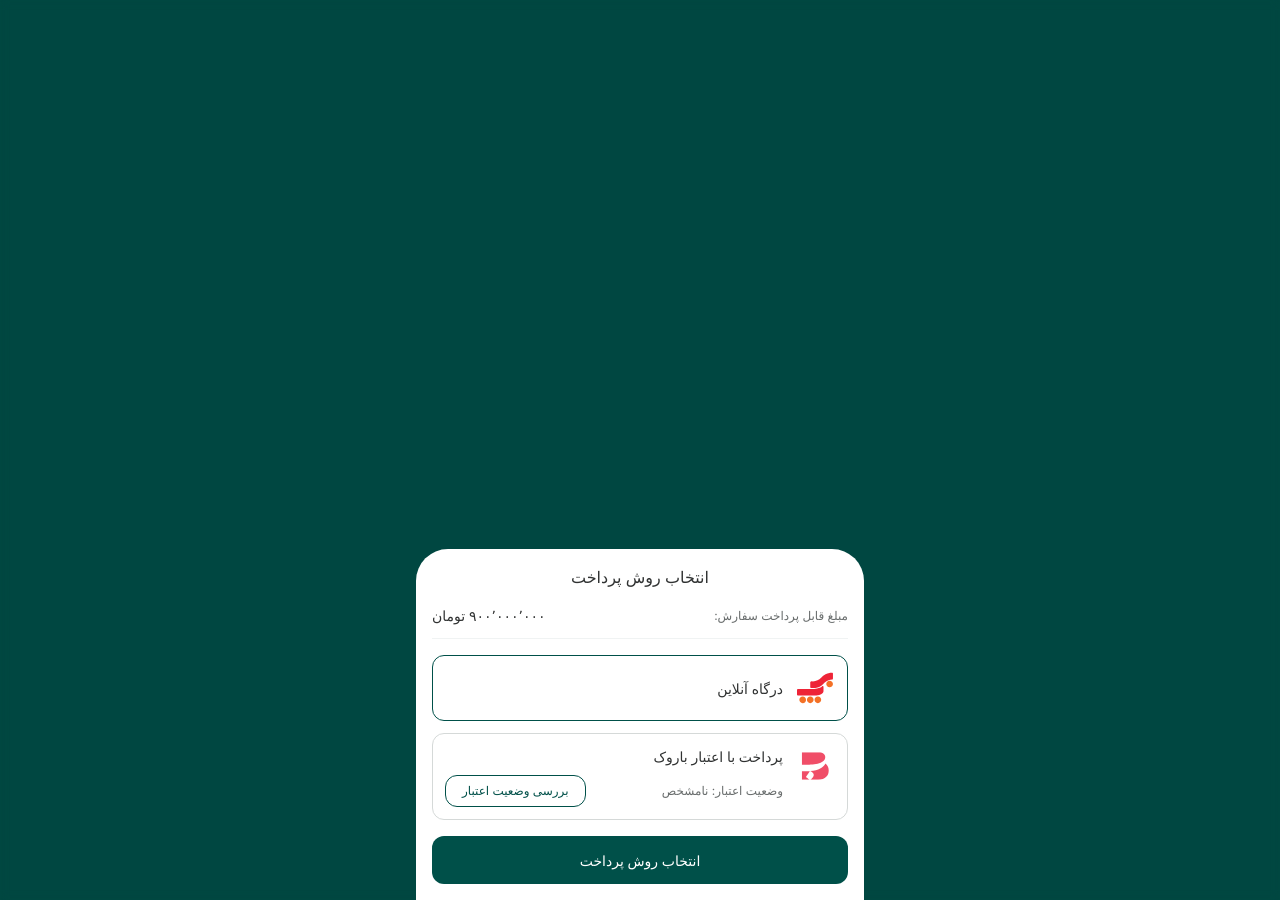
AddPaymentMethodSheet › renders unknown for 5024 and retries via discover
The width and height of the screenshot is (1280, 900).
Expected: the text "وضعیت اعتبار: نامشخص" is shown, [662, 782, 783, 800]
Expected: the text "غیرفعال" is not shown
Step 1. Click the button "بررسی وضعیت اعتبار" → point(515, 791), box [445, 775, 586, 807]
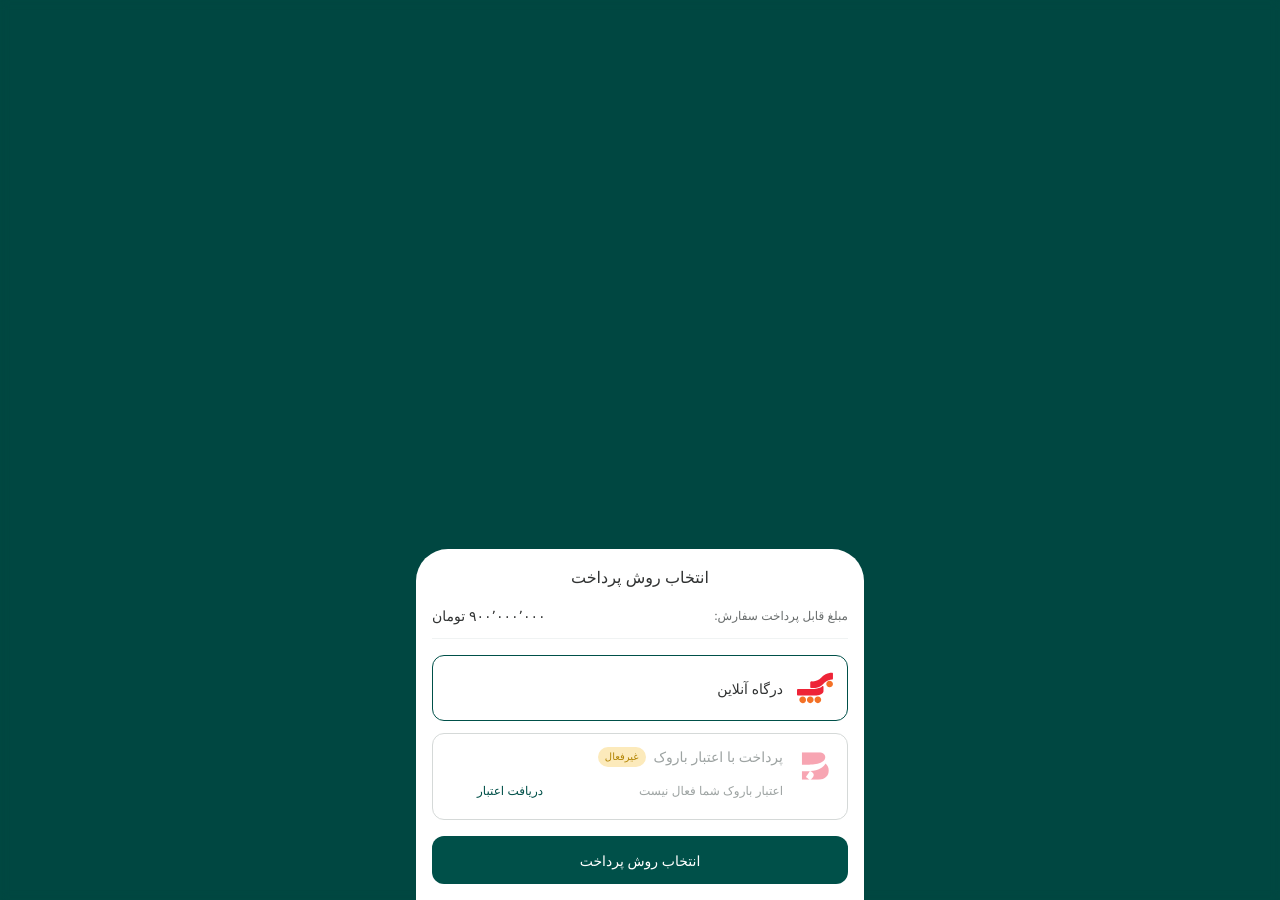
Result: the text "غیرفعال" is shown at [605, 749, 639, 764]
Result: the text "اعتبار باروک شما فعال نیست" is shown at [639, 782, 783, 800]
Result: the text "وضعیت اعتبار: نامشخص" is gone
